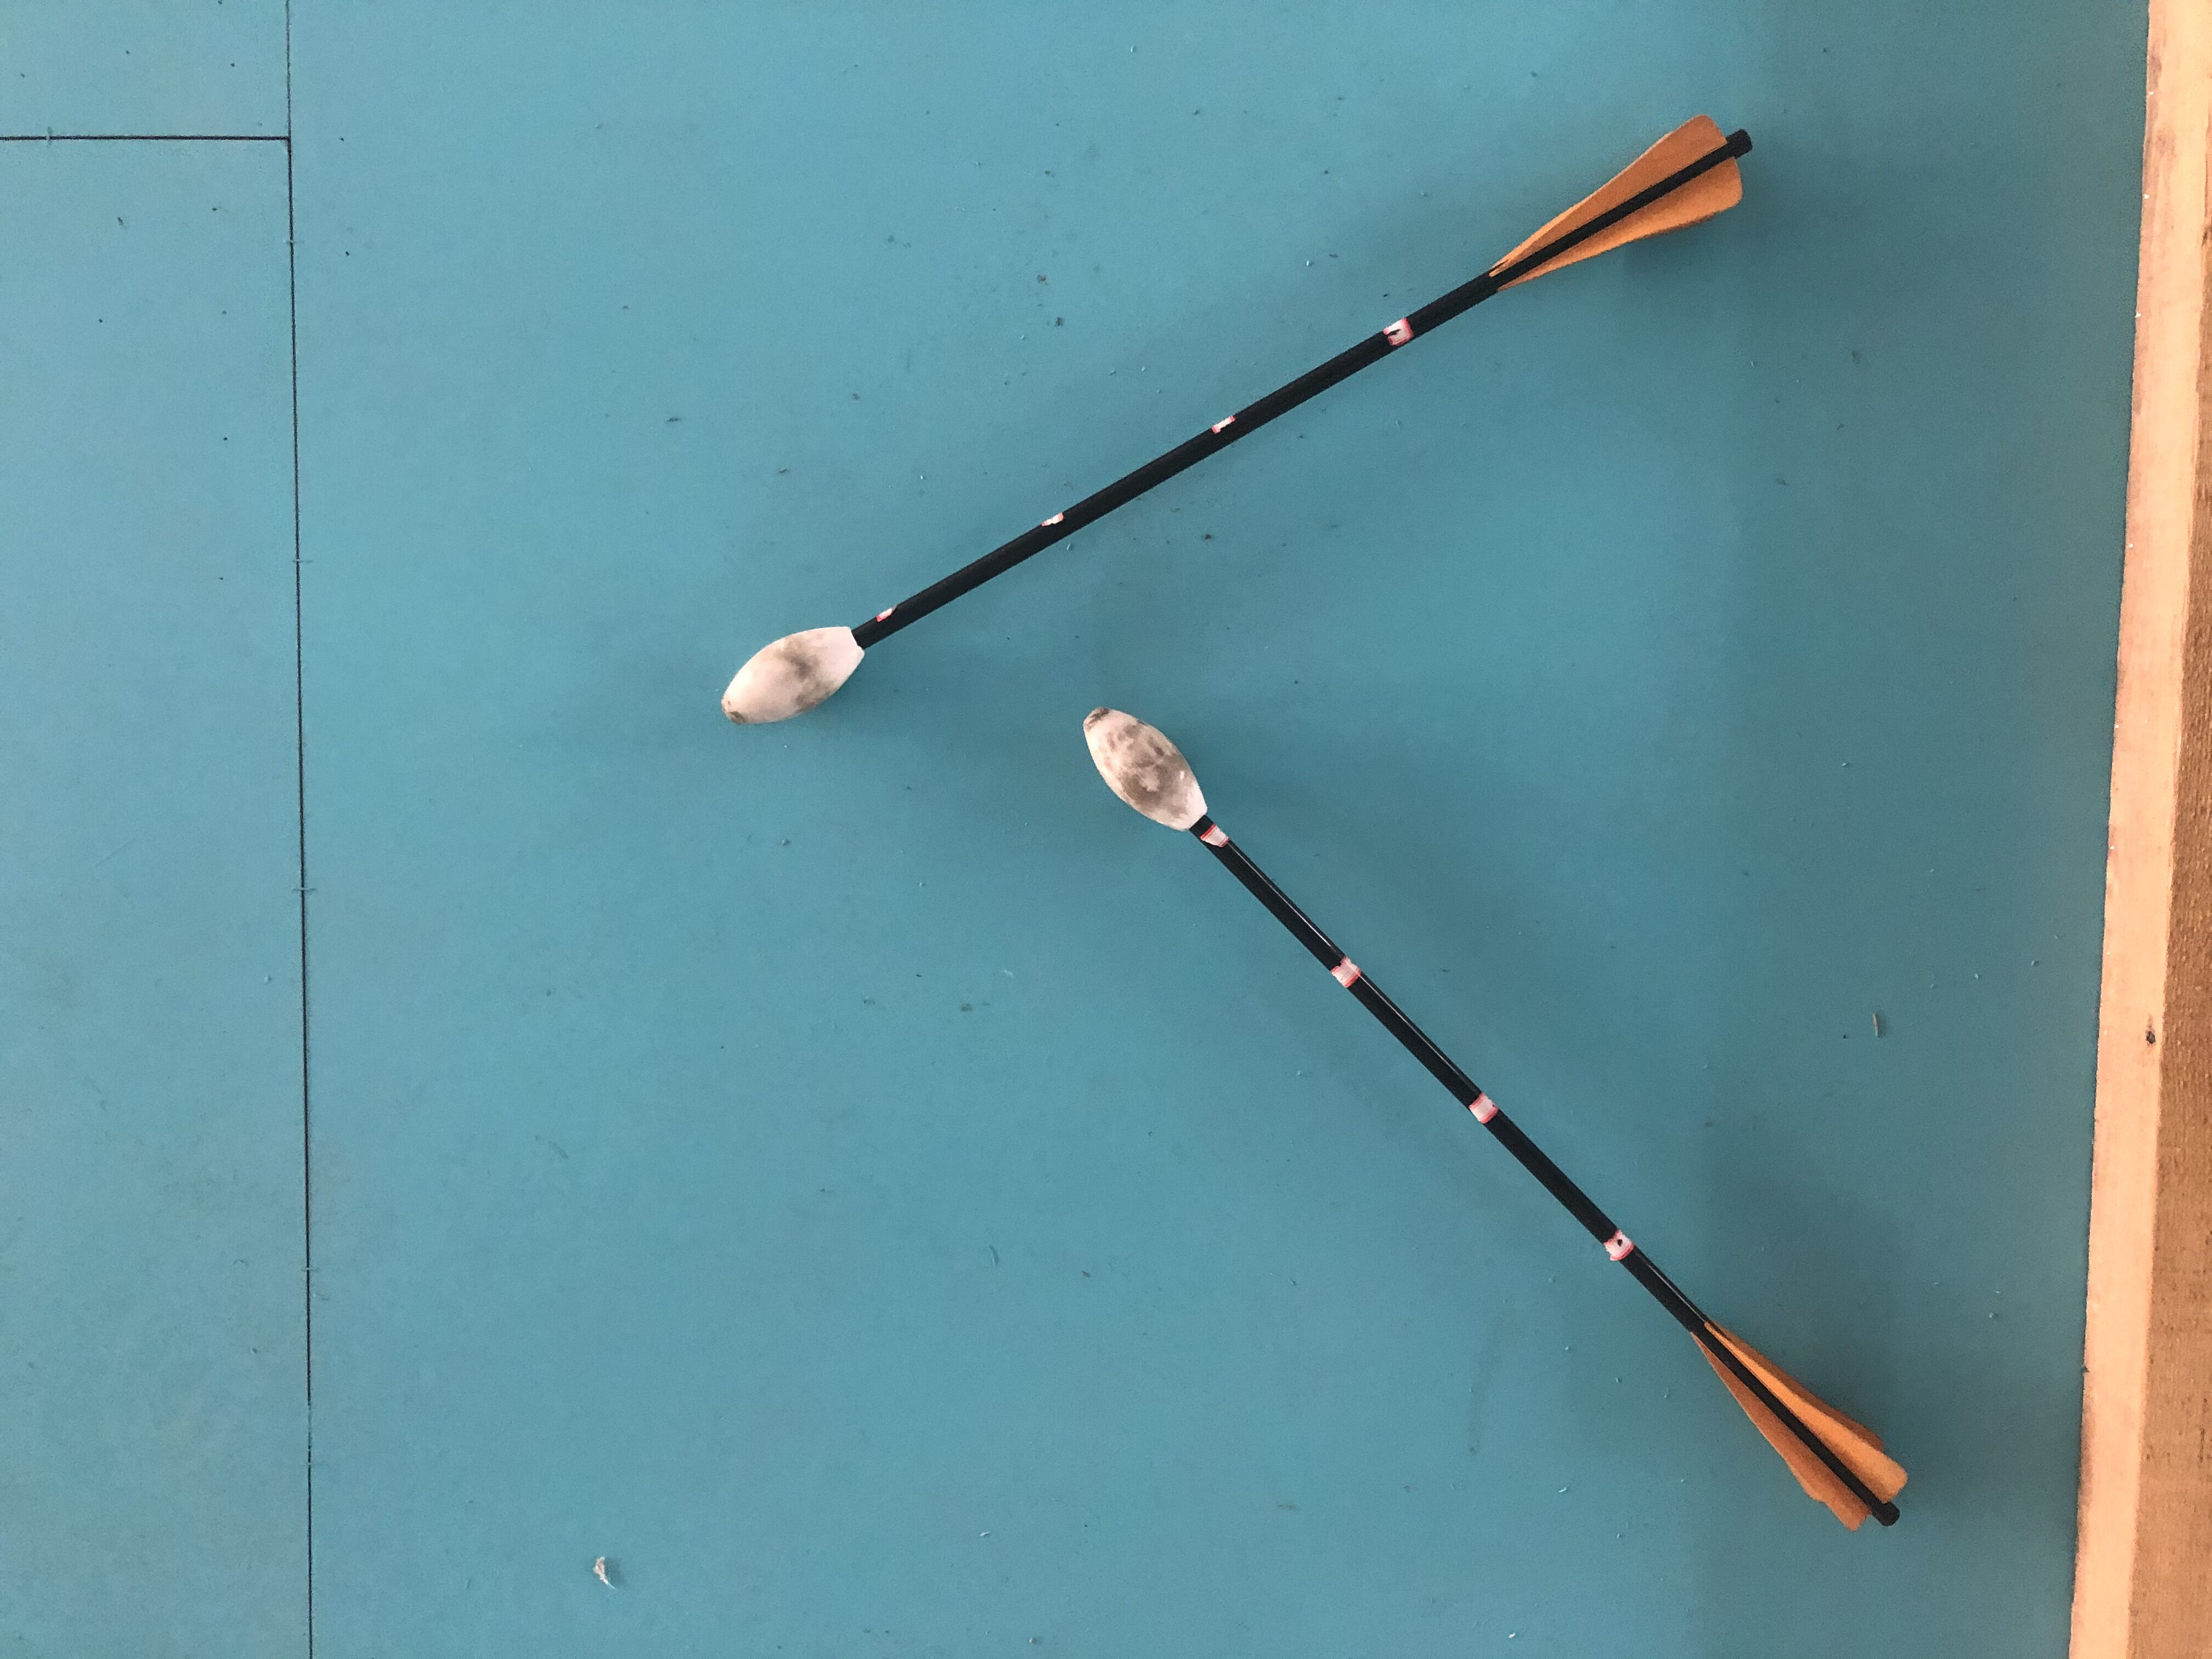arrow: (1082, 708, 1909, 1532), (714, 117, 1754, 723)
arrowFront: (1085, 706, 1216, 835), (718, 615, 871, 723)
